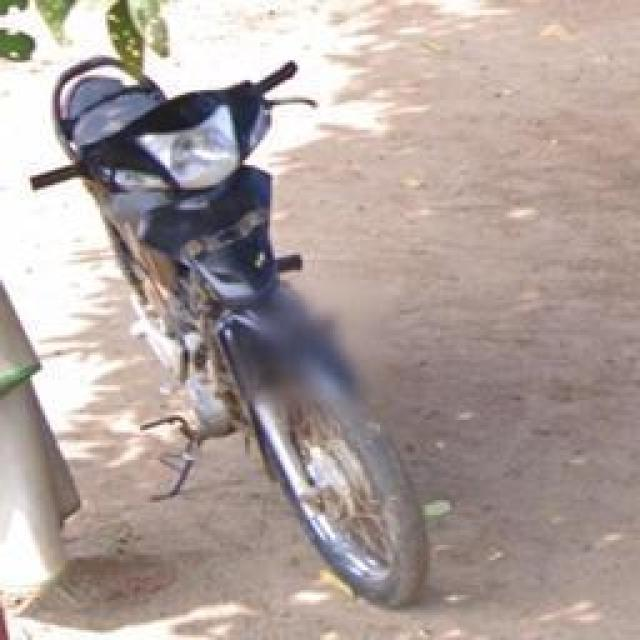motorcycle: (32, 52, 432, 608)
